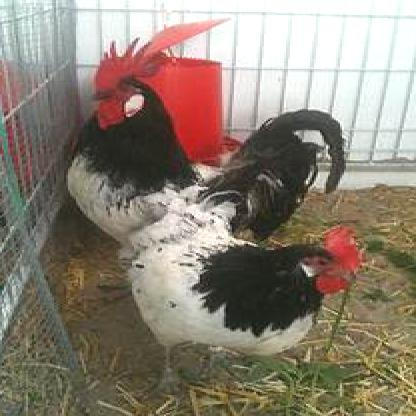chicken: (60, 37, 346, 247), (114, 190, 364, 398)
